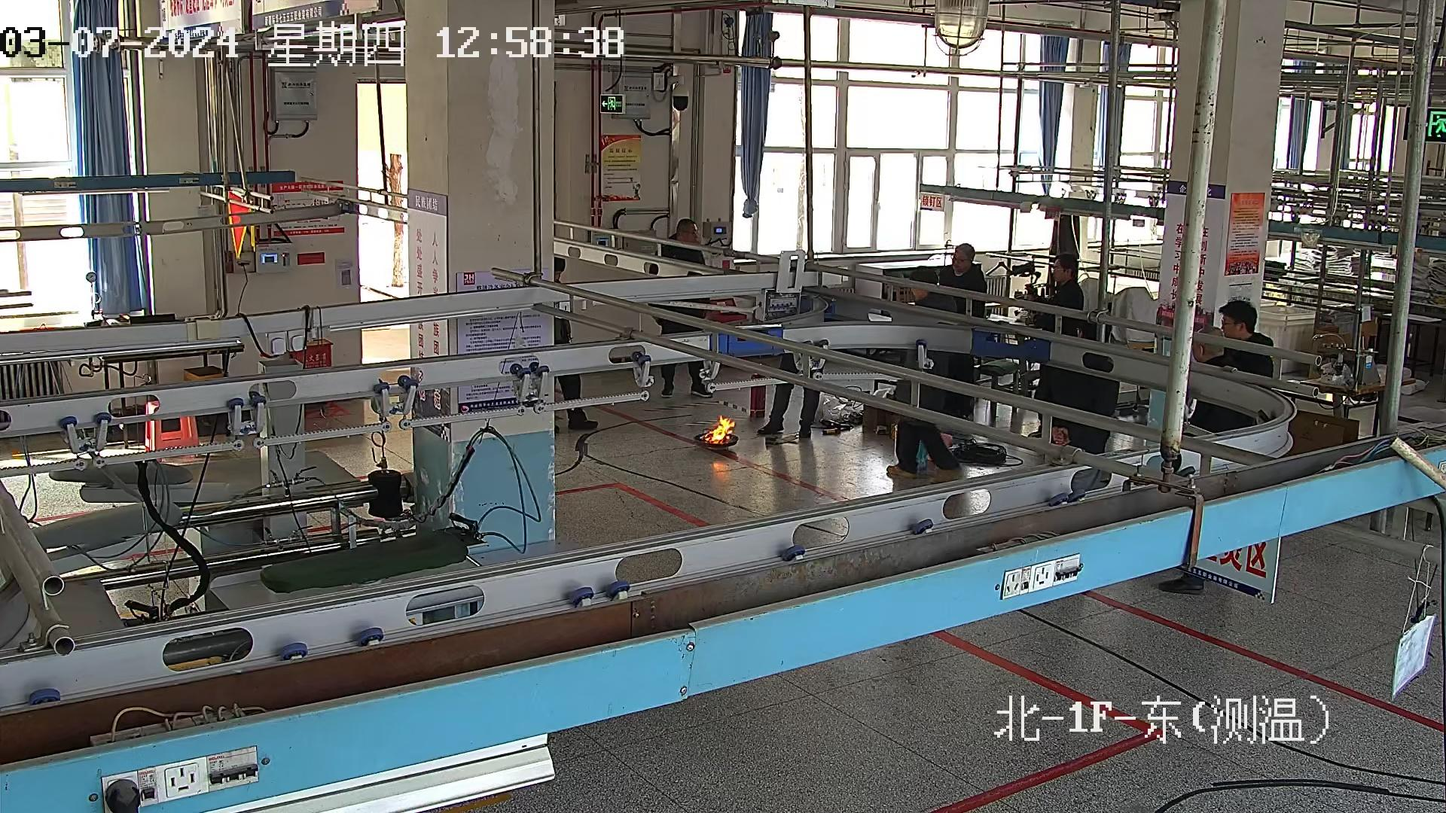fire: (697, 416, 735, 445)
